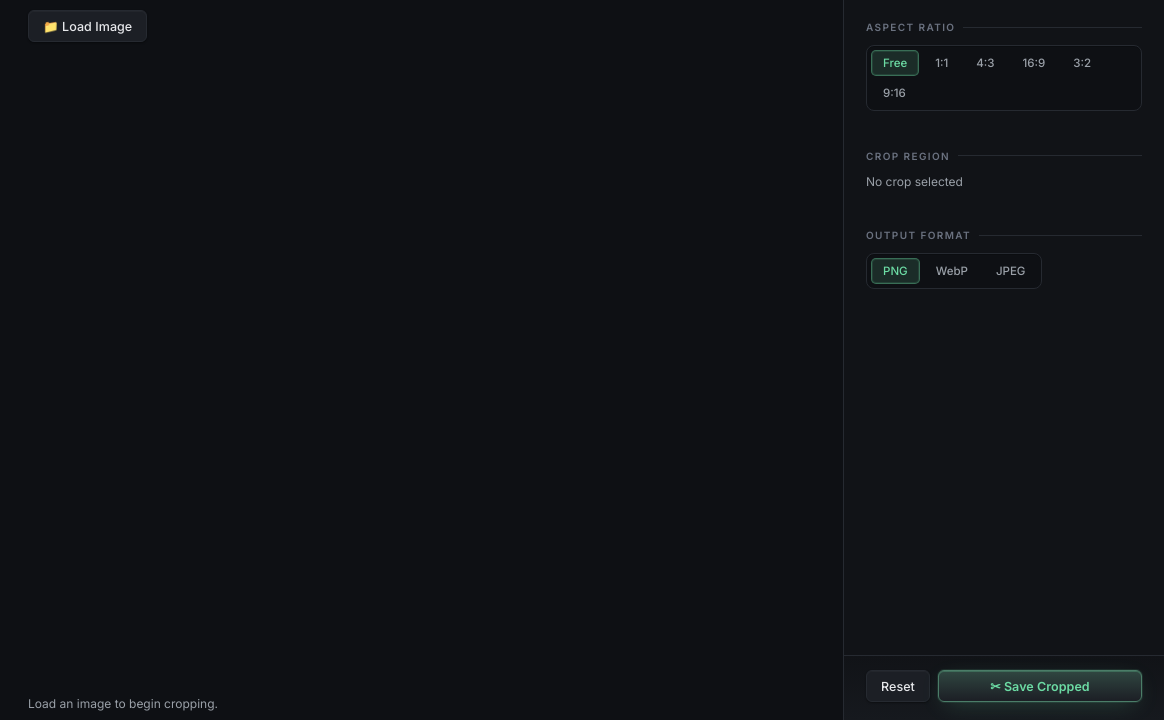
ImageCropper › shows quality slider when JPEG is selected
Click the button "JPEG": click(1011, 271) [984,258,1037,284]
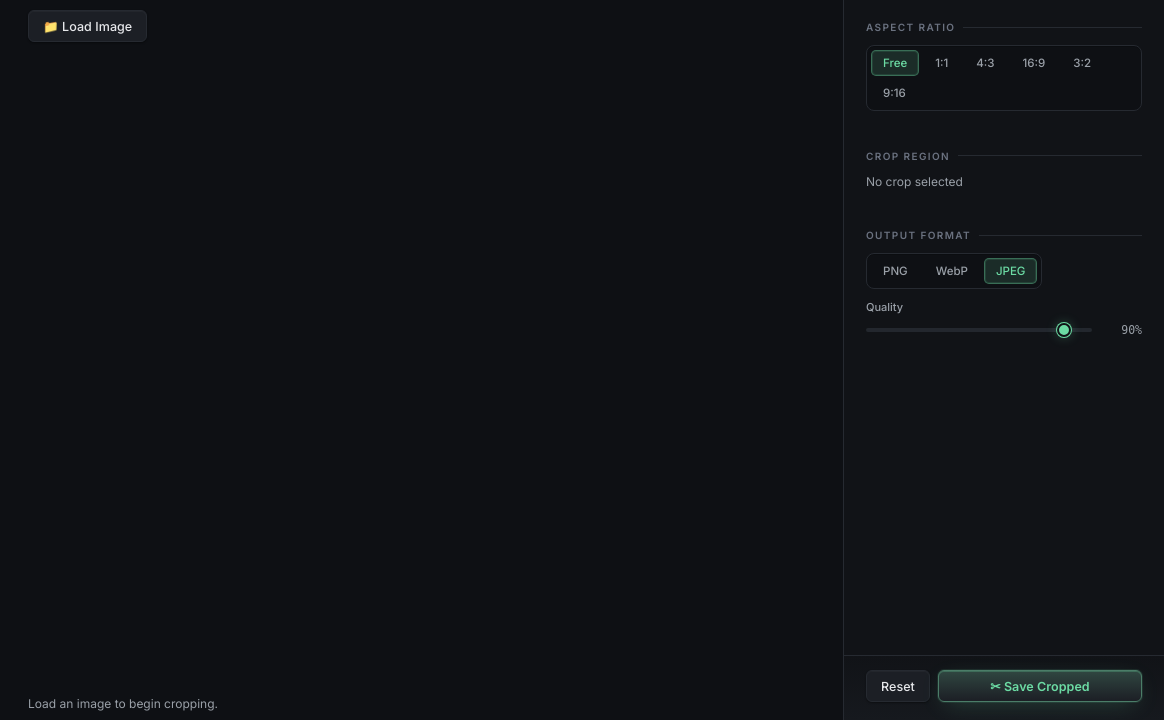
Now the text "Quality" is shown, box [866,300,903,314]
Now the text "90%" is shown, box [1121,323,1142,337]
